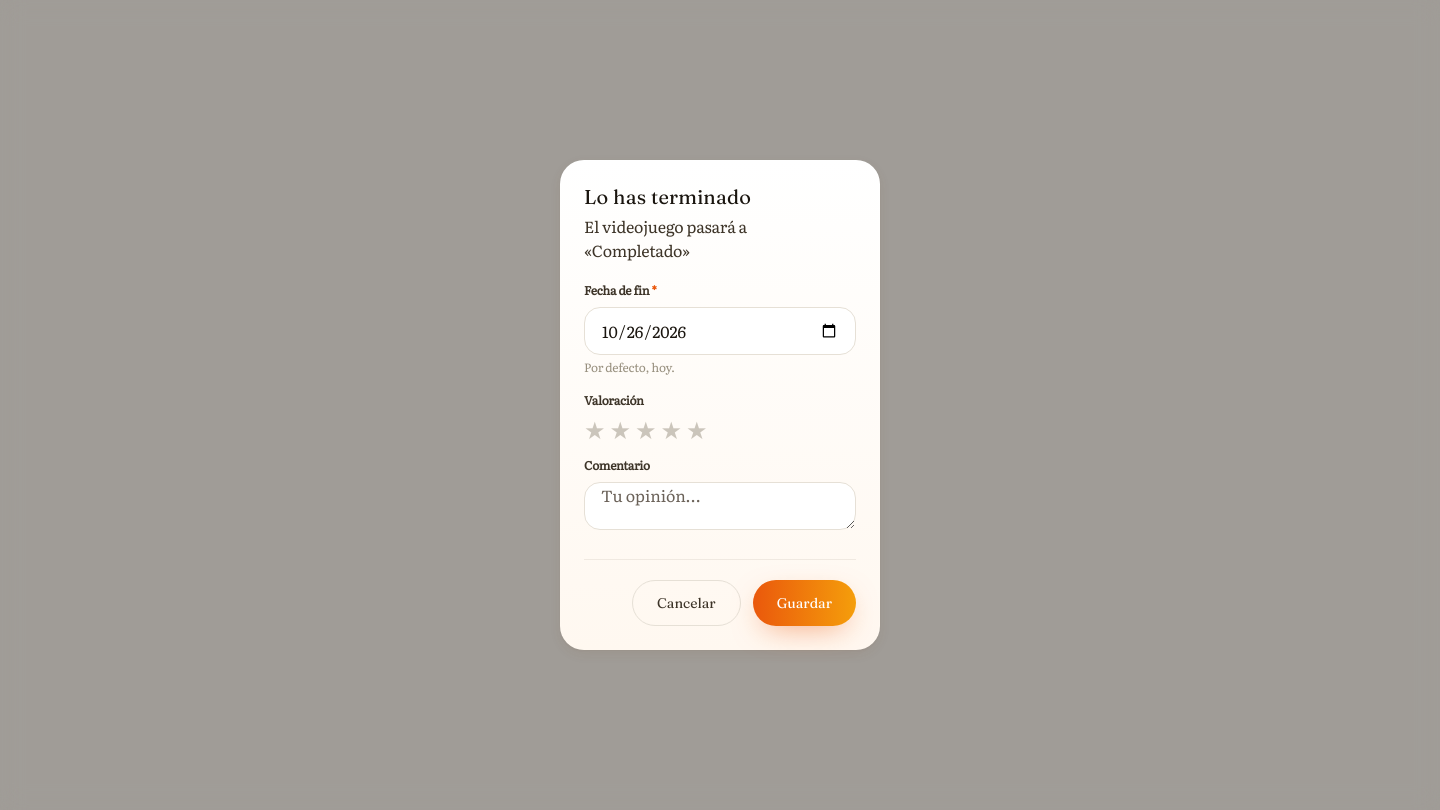
Scenario: CompleteGameDialog › una fecha vacía no guarda y avisa de que es obligatoria
Clear the date field labelled "Fecha de fin *" at point(720, 331), box [584,307,856,355]
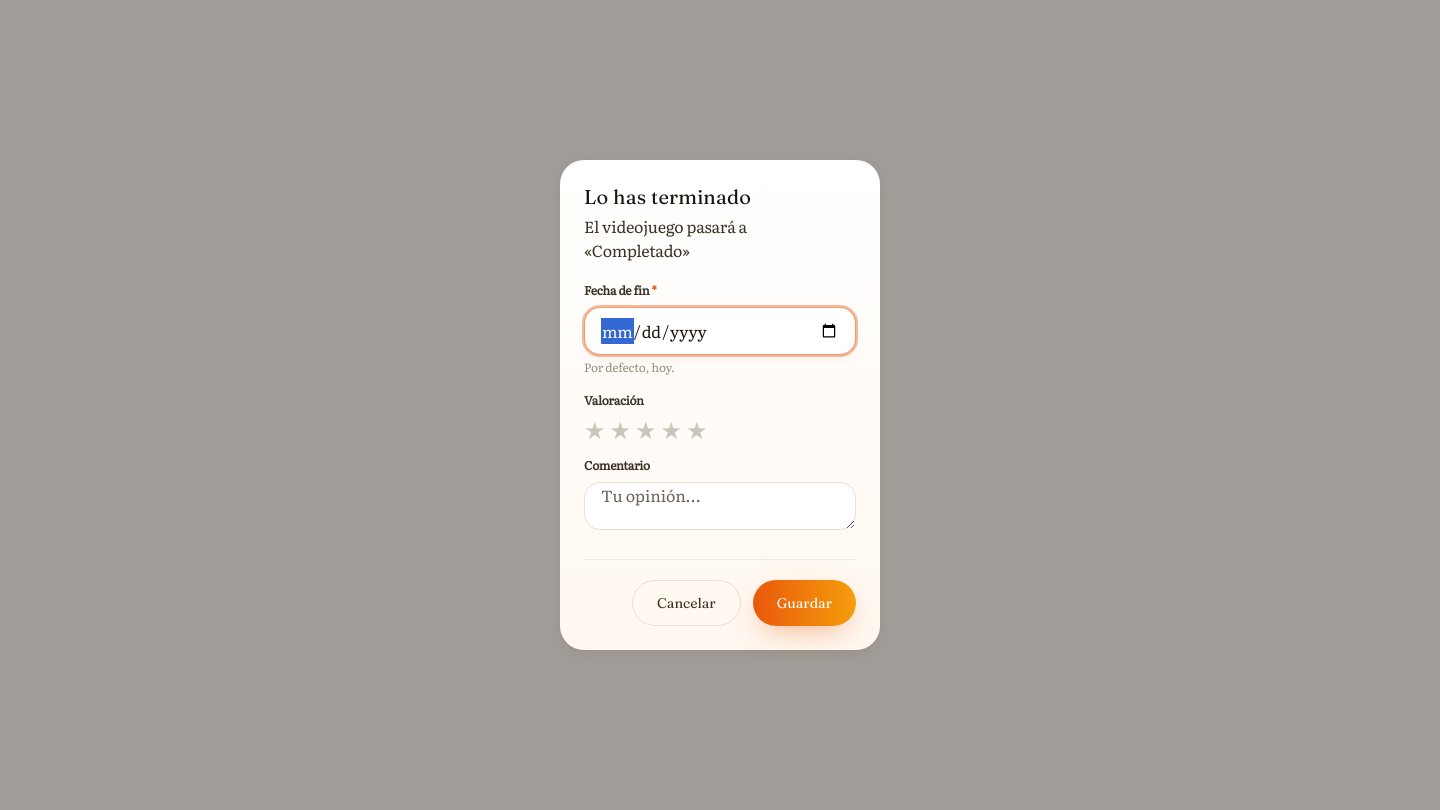
Click the button "Guardar" at point(804, 603), box [753,580,856,626]
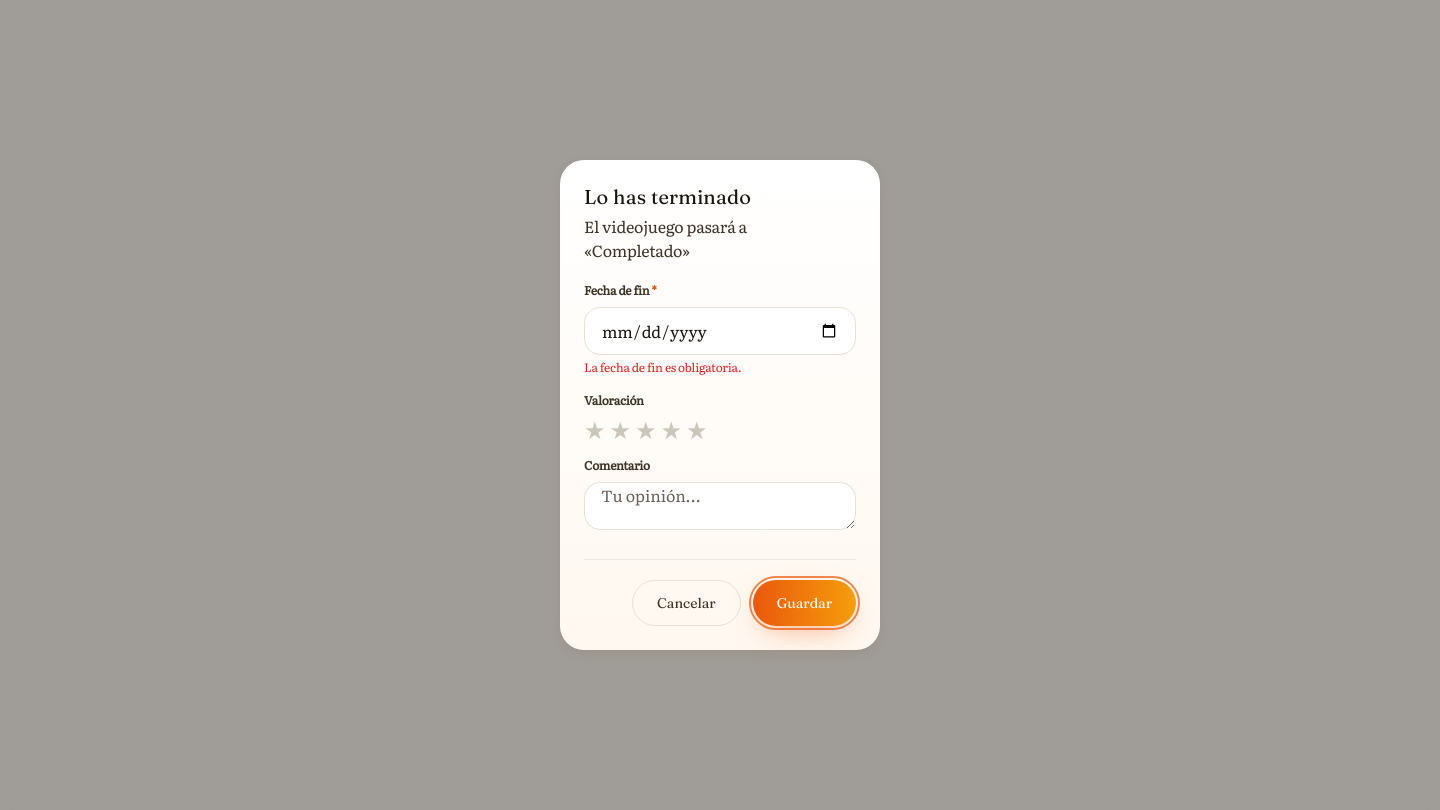
Now the message reads "La fecha de fin es obligatoria.", box [584,358,742,376]
